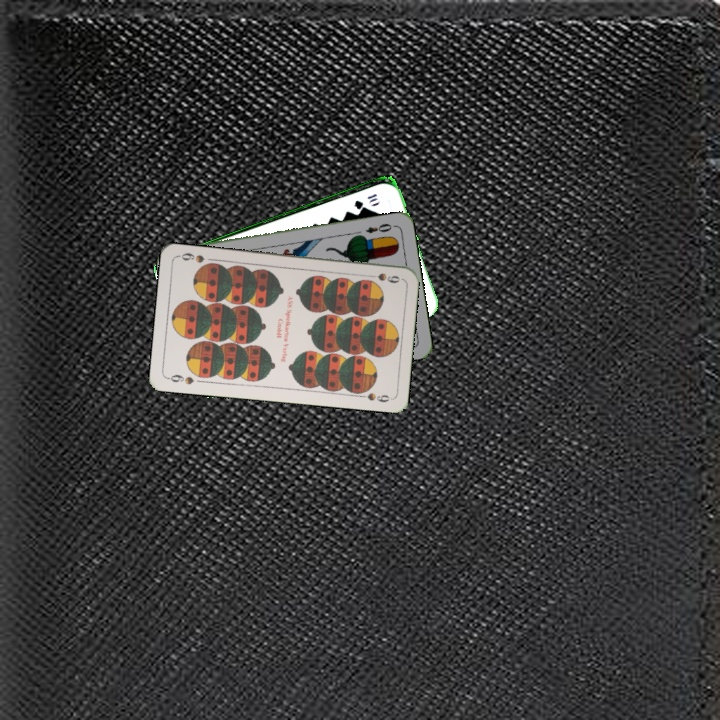EO: (361, 219, 394, 236)
G10: (350, 190, 380, 210)
S9: (363, 269, 402, 285), (164, 370, 197, 387)
